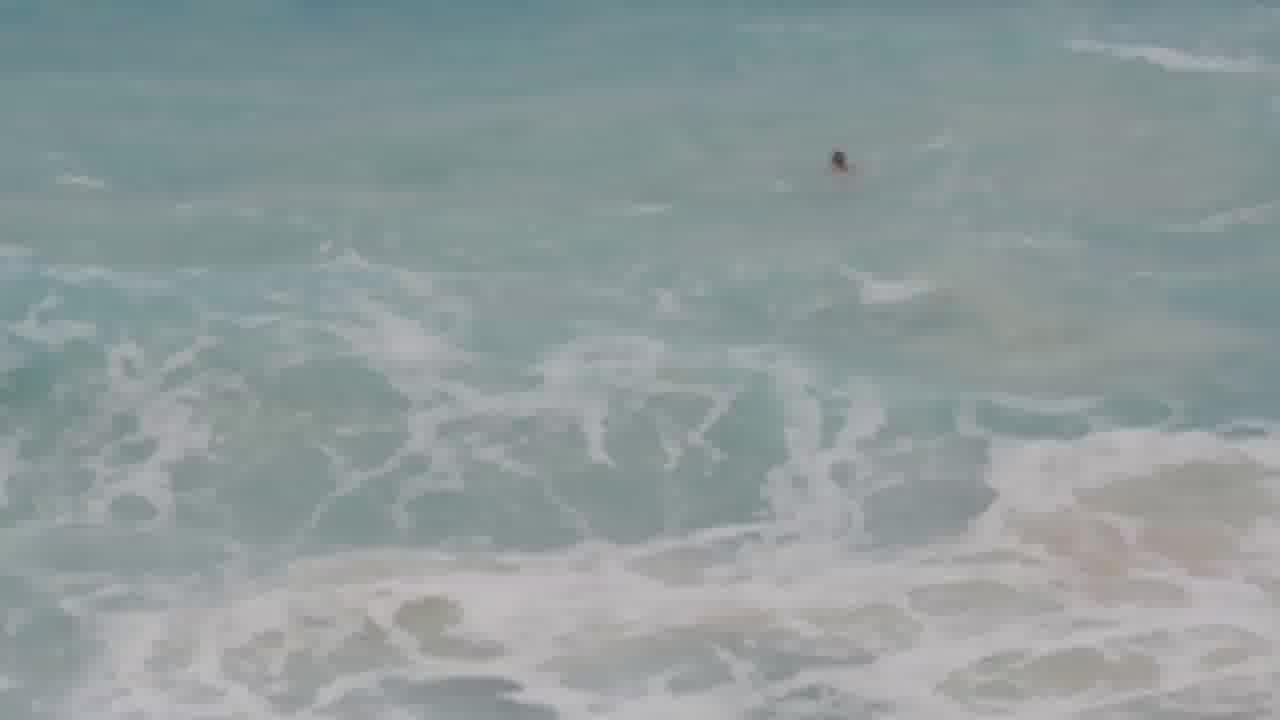swimmer: (822, 135, 865, 186)
